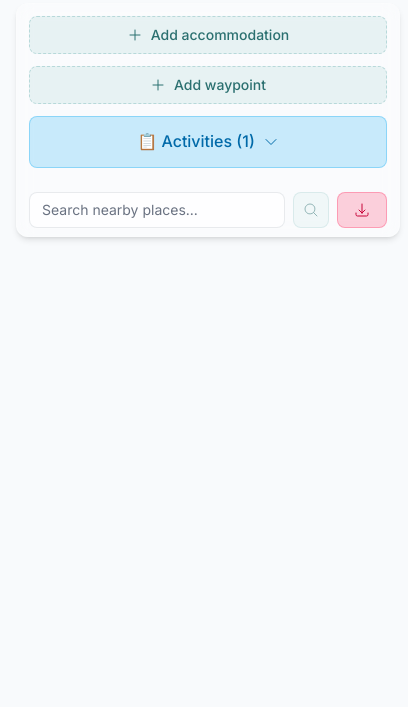
Test: ActivitiesPanel todo chips › shows the most urgent linked todo on the card: overdue before ready before upcoming
Click the button "📋 Activities (1)" at [208, 142], box [29,116,387,168]
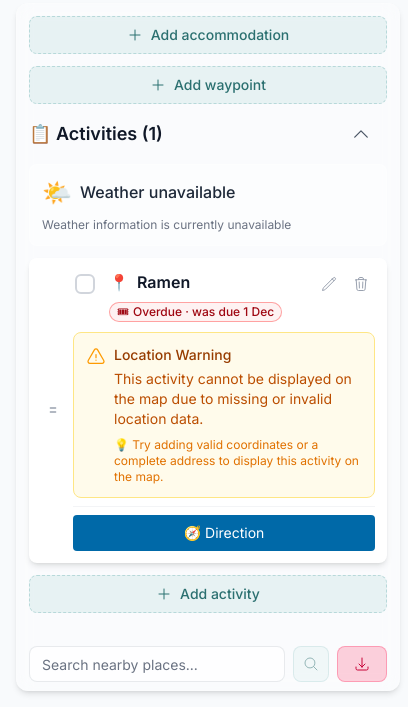
expect the text "Overdue · was due 1 Dec" is shown: met, box [133,304,274,319]
